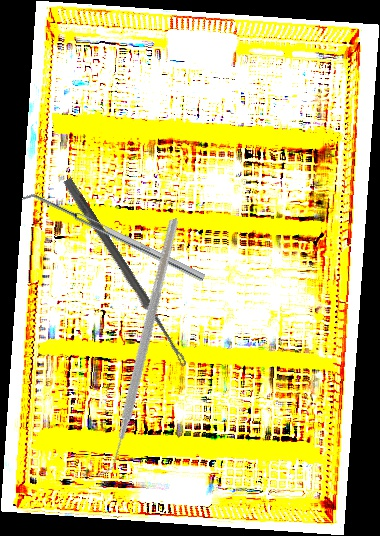Chopper: (24, 218, 245, 478)
Spatula Surgical: (21, 187, 206, 289)
Surgical Spoon: (61, 177, 191, 368)
